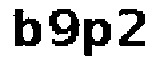2: (117, 7, 147, 48)
9: (45, 8, 82, 50)
b: (10, 8, 43, 49)
p: (83, 14, 114, 60)
